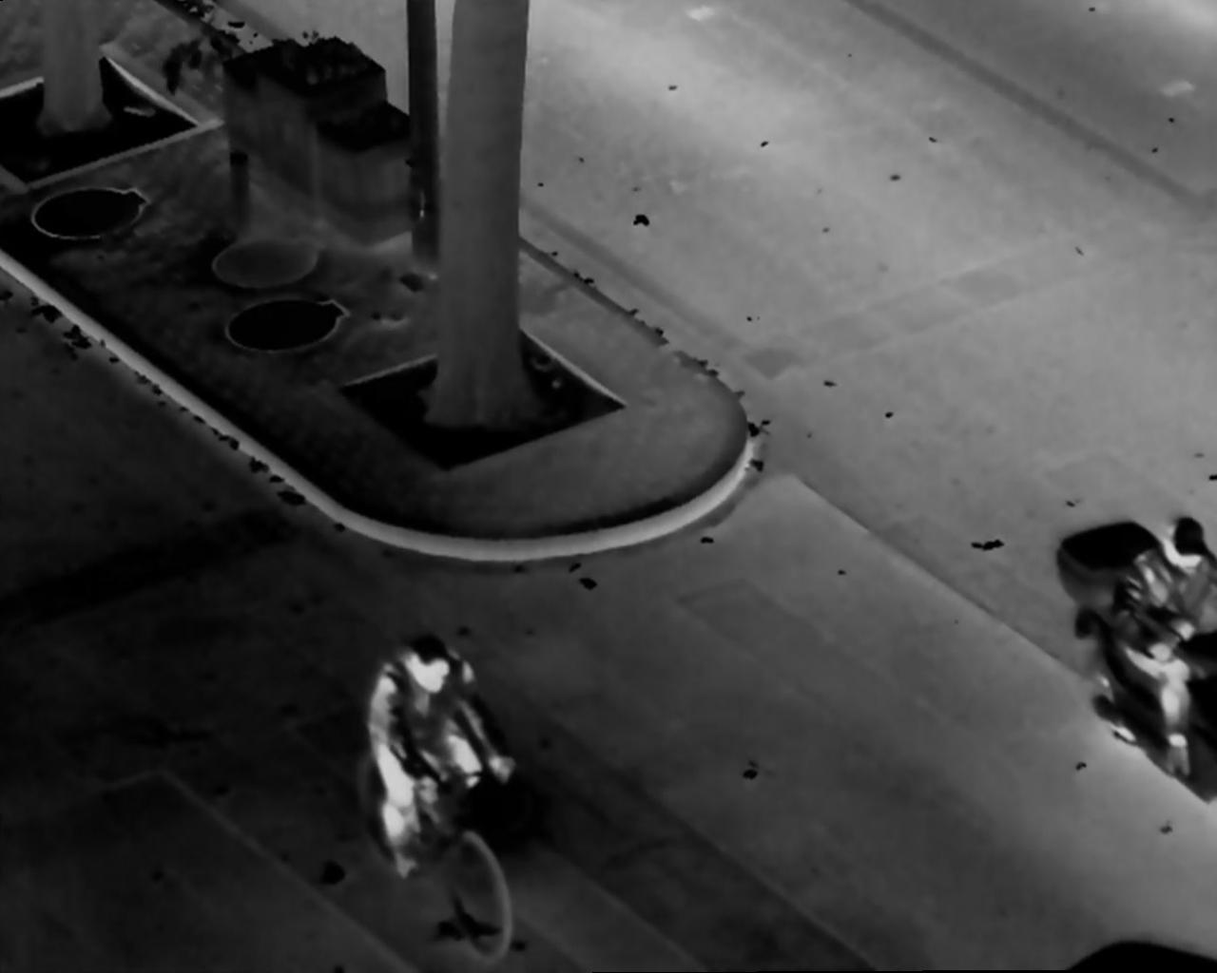person: (357, 632, 517, 871), (1131, 516, 1217, 794)
